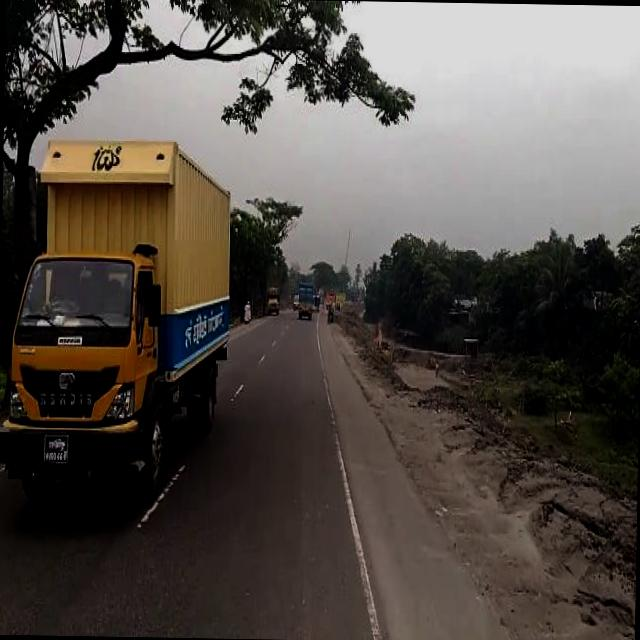bus: (314, 292, 322, 310), (294, 291, 300, 309)
truck: (1, 137, 233, 503), (299, 279, 315, 317), (268, 282, 282, 312)
